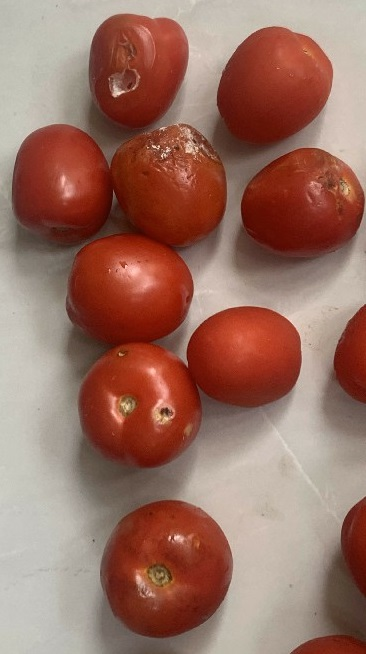NG: (79, 336, 203, 469), (113, 116, 231, 250), (238, 147, 366, 263), (82, 7, 193, 128)
OK: (97, 495, 244, 640), (203, 22, 337, 144), (64, 231, 193, 347), (186, 303, 308, 412), (6, 120, 112, 237)
